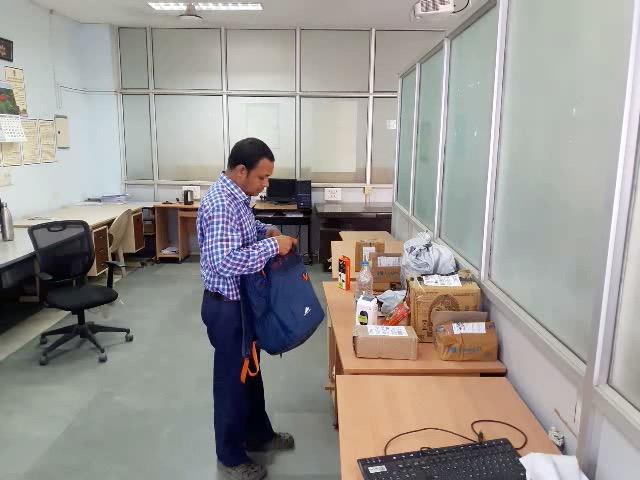shoplifting: (198, 223, 346, 342)
